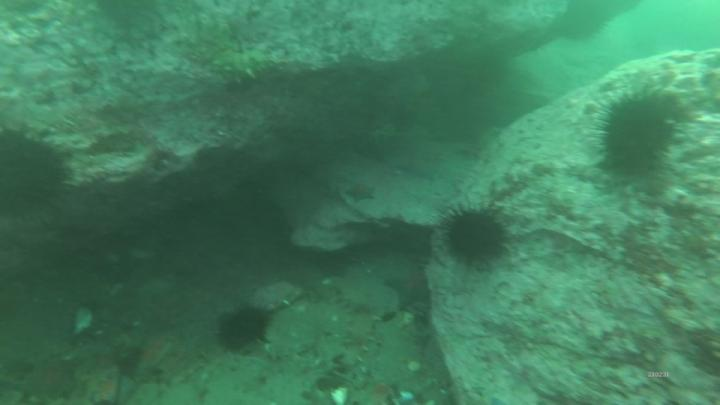echinus: (3, 131, 69, 217), (605, 100, 674, 175), (446, 212, 504, 262), (221, 311, 269, 351)
holothurian: (211, 49, 278, 83), (343, 315, 377, 369), (318, 287, 361, 324)
starfish: (388, 271, 430, 311), (347, 185, 376, 203)
